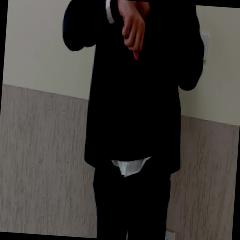not-gloved: (114, 0, 147, 61)
